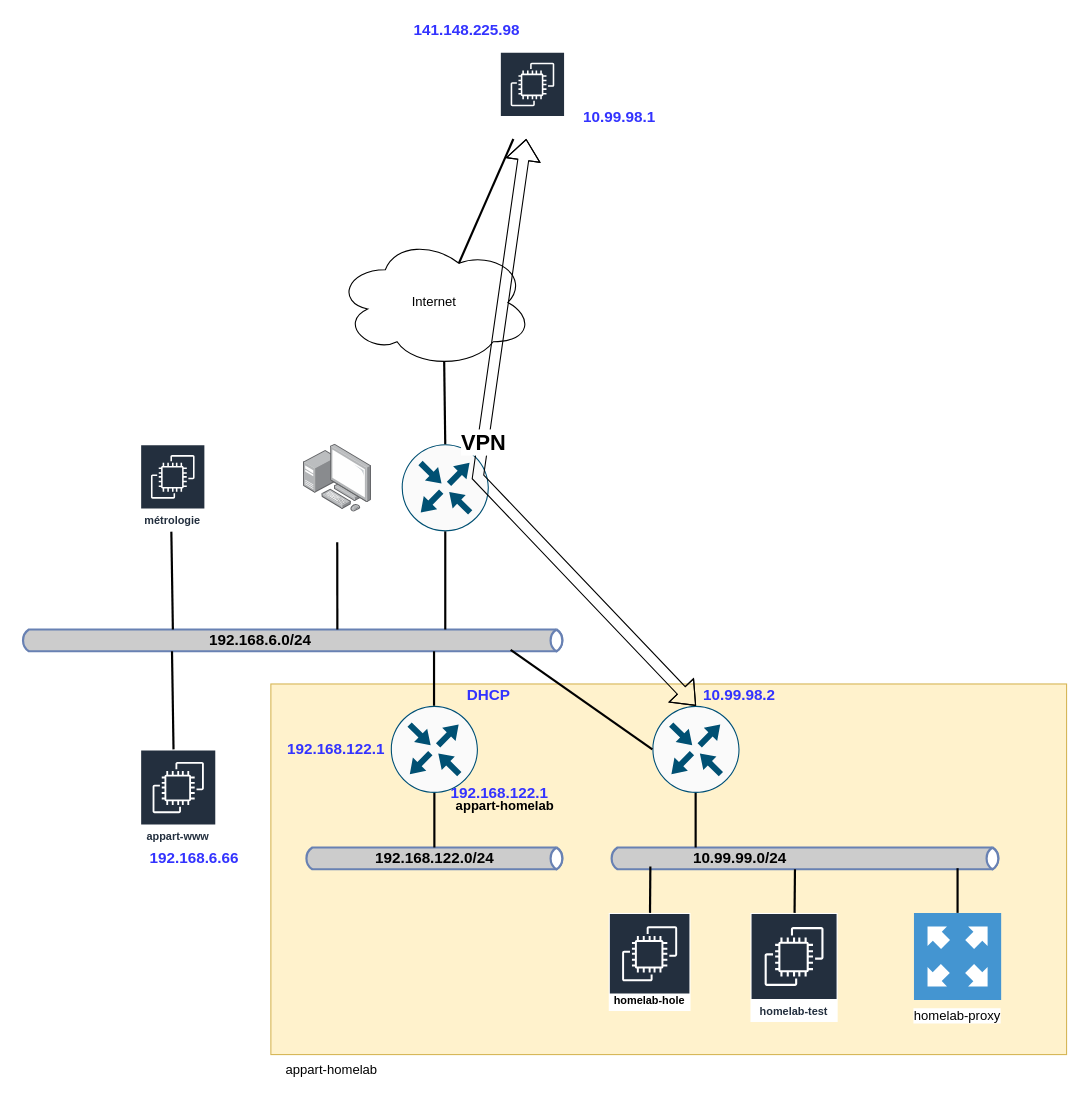
Some shapes in this 1086 by 1095 pixel diagram are drawn without their labels. Here are the shapes that lost their labels. From the top down, the centre of each, then its label:
the point at 532,95: VPS
the point at 337,478: PC de stream
the point at 445,487: box internet
the point at 695,749: homelab-out
